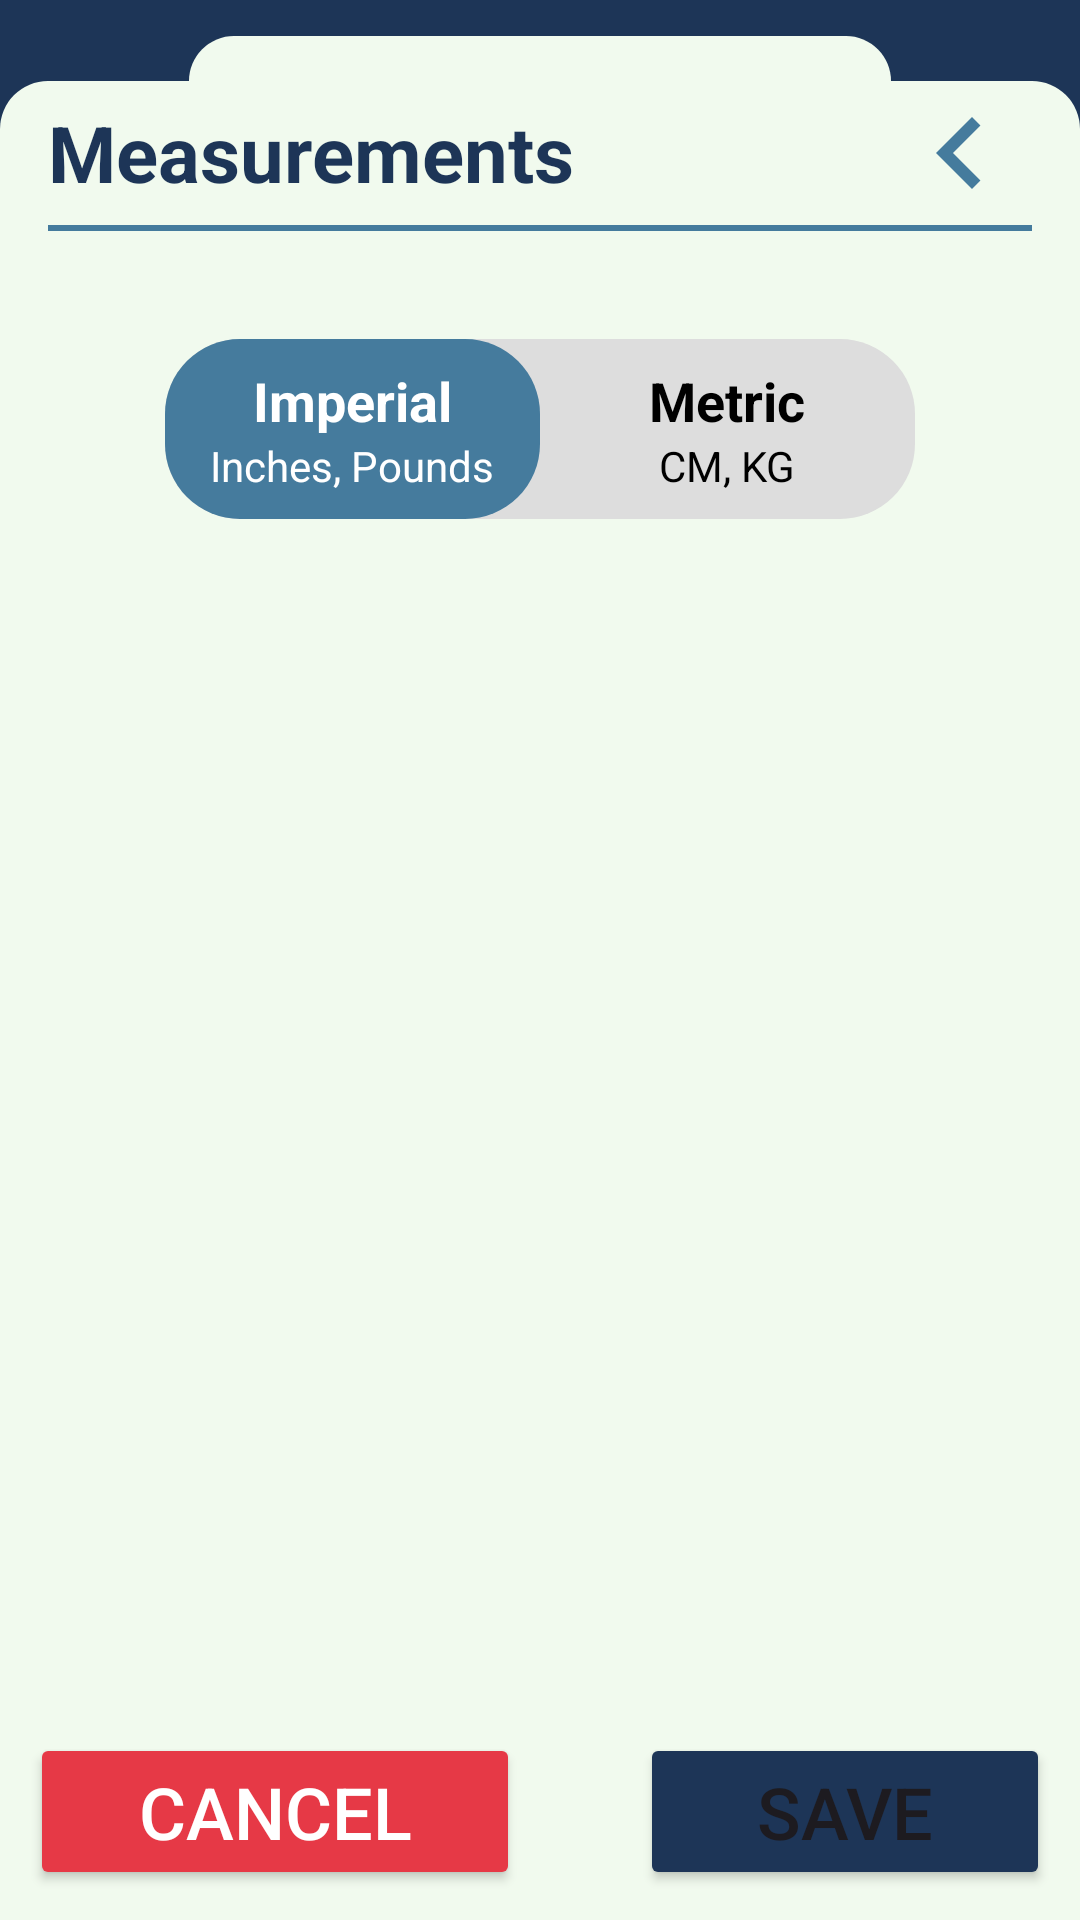

Icon click points for this 1080 × 1920 phone screenshot, format (x,y):
Back: (958,153)
